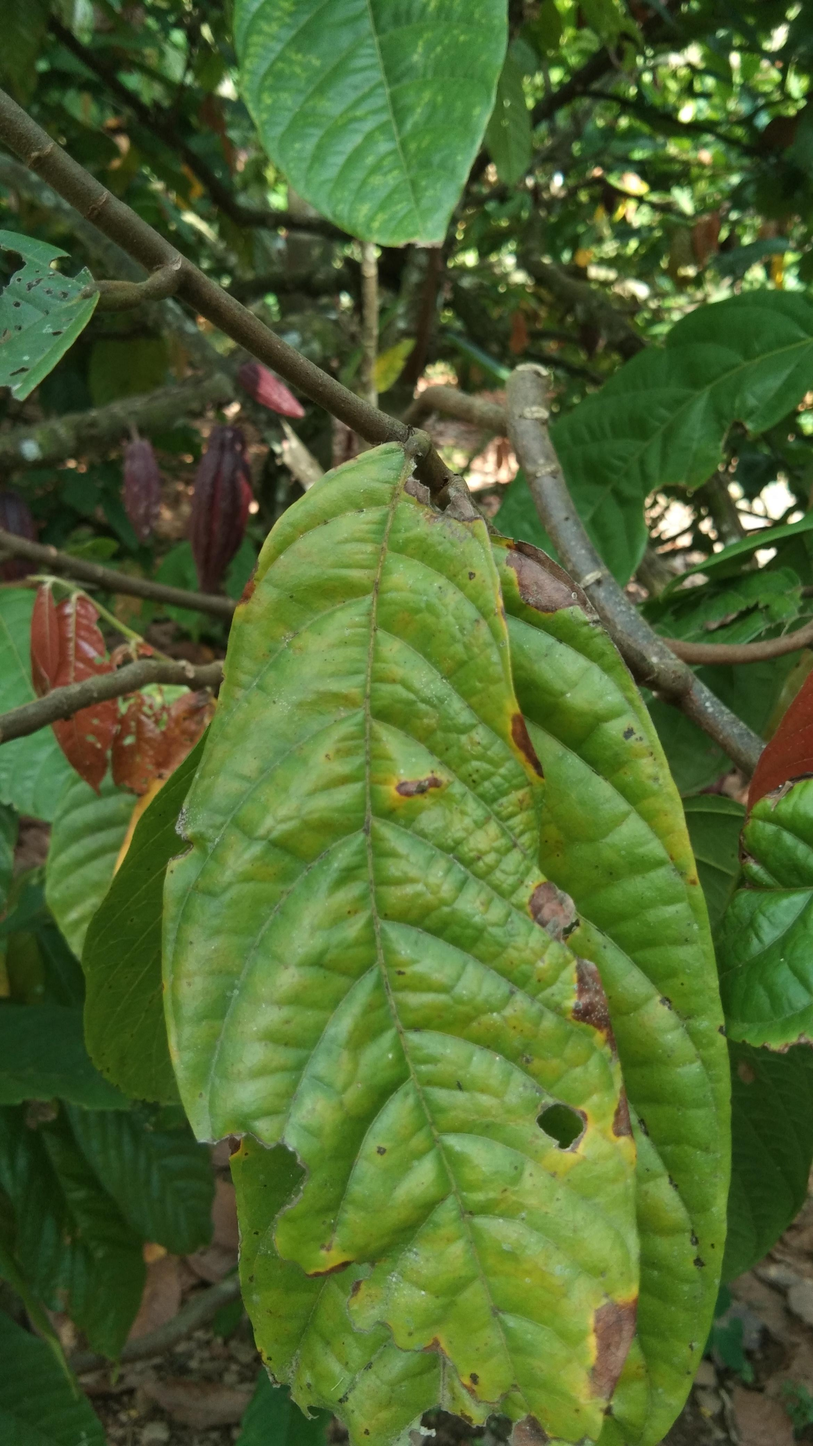deficiencia_potasio: (129, 408, 664, 1446)
